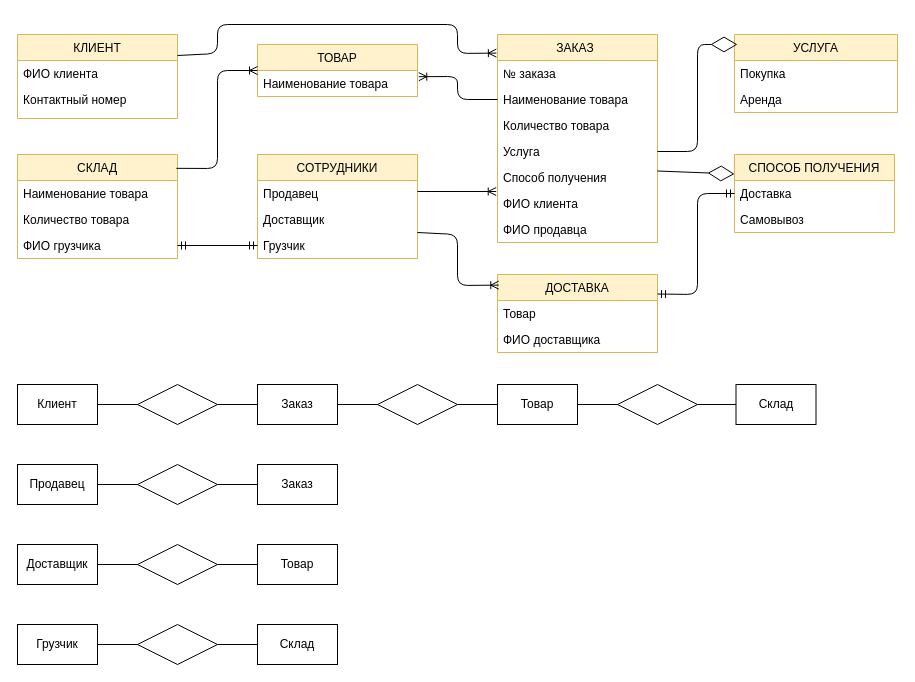
The diagram is 915 pixels wide and 682 high, and some of its shapes have lost their labels. Each missing label, with the centre of its shape:
"Делает" belongs at (177,404).
"Доставляет" belongs at (177,564).
"Лежит на" belongs at (657,404).
"Оформляет" belongs at (177,484).
"Работает на" belongs at (177,644).
"Состоит из" belongs at (417,404).
